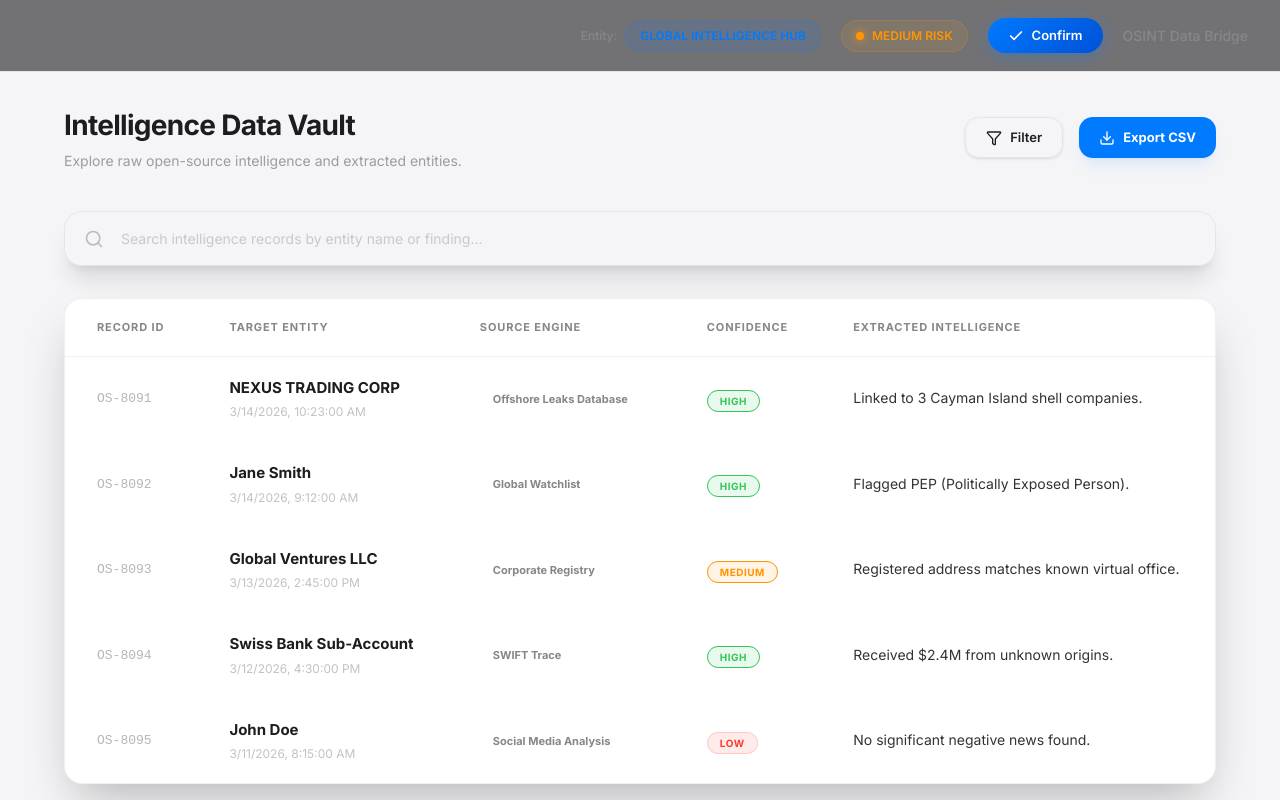
Test: OsintView mock-data search › shows empty-state fallback when nothing matches
Step 1. Type "this-should-not-match-anything" into the field with test id "osint-search-input" → [640, 238], box x1=64 y1=211 x2=1216 y2=266
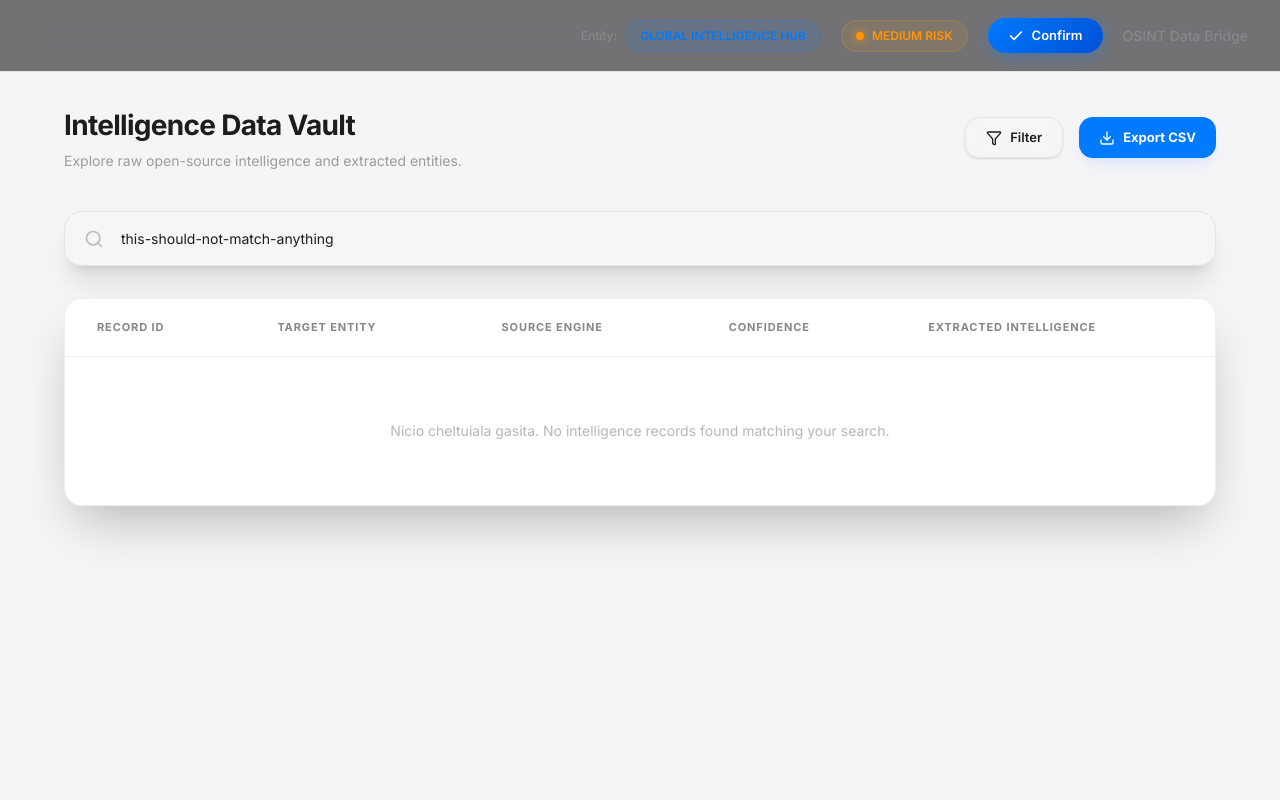
Check: the text "Nicio cheltuiala gasita" is shown, box x1=390 y1=422 x2=890 y2=438
